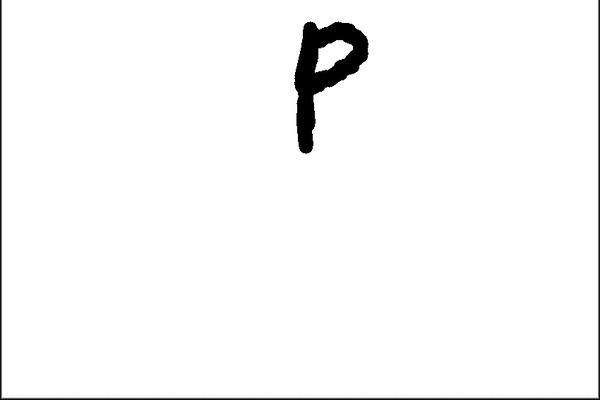P: (278, 8, 381, 165)
